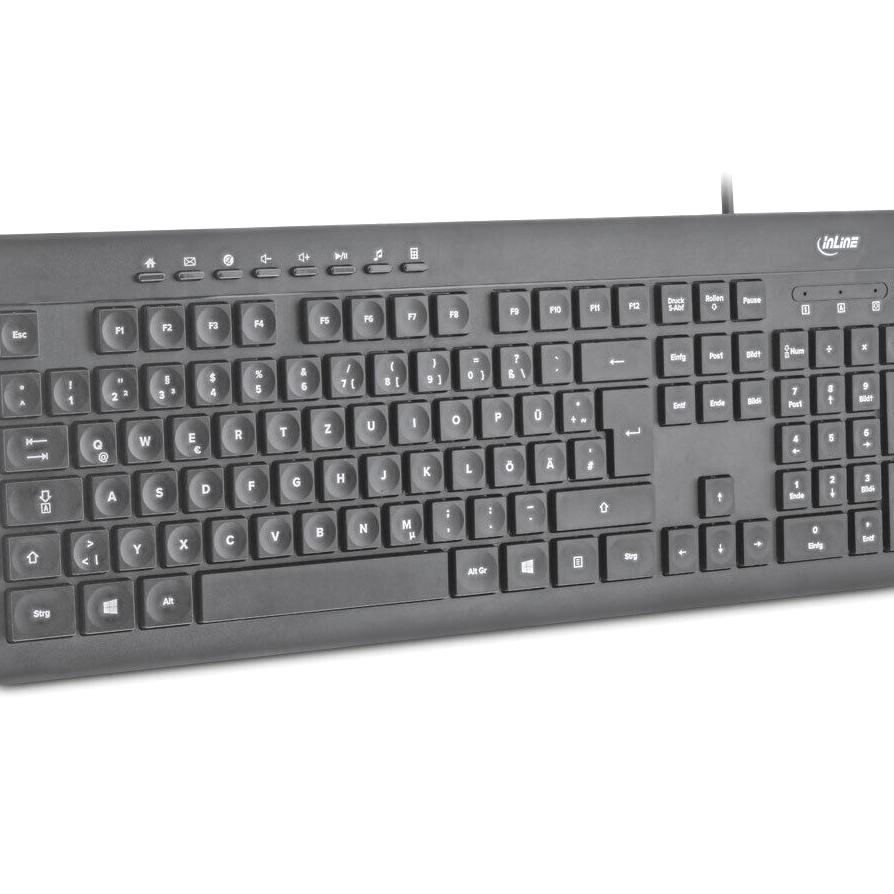0: (456, 344, 491, 388)
1: (47, 365, 89, 412)
2: (95, 362, 138, 409)
3: (143, 360, 185, 406)
4: (192, 357, 231, 402)
5: (238, 355, 276, 399)
6: (283, 353, 320, 397)
7: (326, 350, 363, 395)
8: (371, 348, 407, 393)
9: (414, 346, 450, 390)
a: (90, 469, 130, 516)
accent: (538, 339, 571, 381)
ae: (530, 437, 564, 481)
alt-left: (138, 570, 193, 626)
altgr-right: (451, 543, 498, 594)
b: (299, 506, 336, 550)
c: (208, 513, 247, 559)
caret: (1, 367, 40, 415)
comma: (429, 495, 463, 539)
d: (184, 462, 223, 509)
del: (577, 336, 649, 380)
e: (169, 411, 209, 457)
enter: (598, 381, 651, 475)
f: (231, 460, 268, 504)
g: (277, 456, 312, 501)
h: (320, 453, 356, 498)
hash: (570, 433, 604, 477)
i: (395, 397, 429, 441)
j: (363, 449, 399, 494)
k: (408, 446, 442, 490)
keyboard: (1, 255, 894, 671)
l: (449, 444, 483, 487)
less: (66, 524, 108, 572)
m: (385, 498, 421, 544)
minus: (510, 488, 544, 531)
n: (342, 502, 379, 546)
o: (436, 394, 471, 438)
oe: (491, 441, 524, 484)
p: (479, 392, 512, 436)
plus: (559, 386, 591, 430)
point: (470, 492, 504, 535)
q: (74, 417, 115, 465)
r: (217, 408, 255, 453)
s: (137, 466, 177, 513)
shift-left: (1, 530, 60, 580)
shift-lock: (1, 475, 84, 525)
shift-right: (552, 481, 652, 529)
space: (199, 548, 446, 619)
ss: (496, 341, 531, 385)
strg-left: (2, 582, 76, 641)
strg-right: (601, 529, 656, 579)
t: (263, 405, 299, 450)
tab: (1, 421, 69, 471)
u: (351, 400, 387, 445)
ue: (519, 389, 553, 434)
v: (254, 509, 292, 553)
w: (122, 413, 163, 460)
x: (163, 517, 201, 563)
y: (115, 520, 154, 567)
z: (308, 402, 344, 447)
